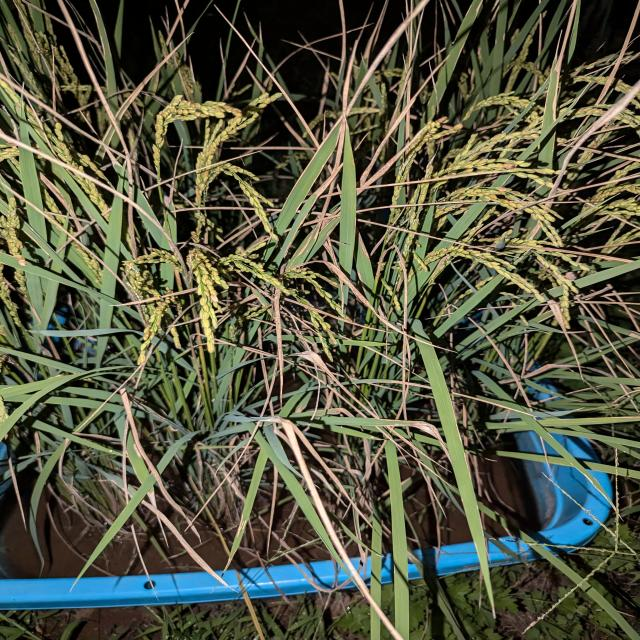9month_ine: (305, 57, 640, 508), (0, 62, 171, 532), (122, 140, 294, 538)
